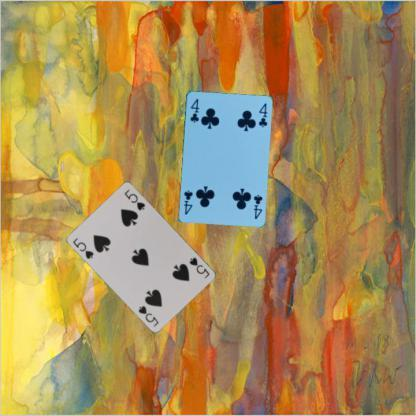4c: (251, 192, 263, 221), (188, 96, 200, 124)
5s: (70, 235, 95, 260), (187, 255, 211, 280)
